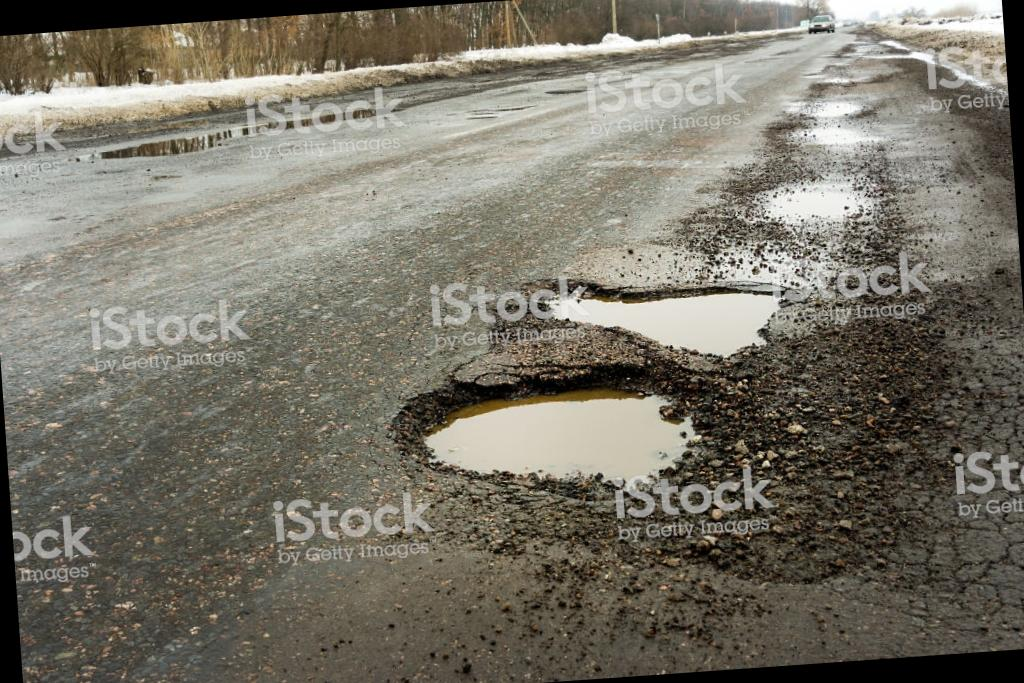pothole: (386, 347, 748, 503), (510, 266, 798, 362), (750, 162, 886, 235), (783, 118, 884, 158), (772, 90, 876, 124), (799, 54, 901, 88), (454, 97, 546, 129), (532, 81, 602, 102)
